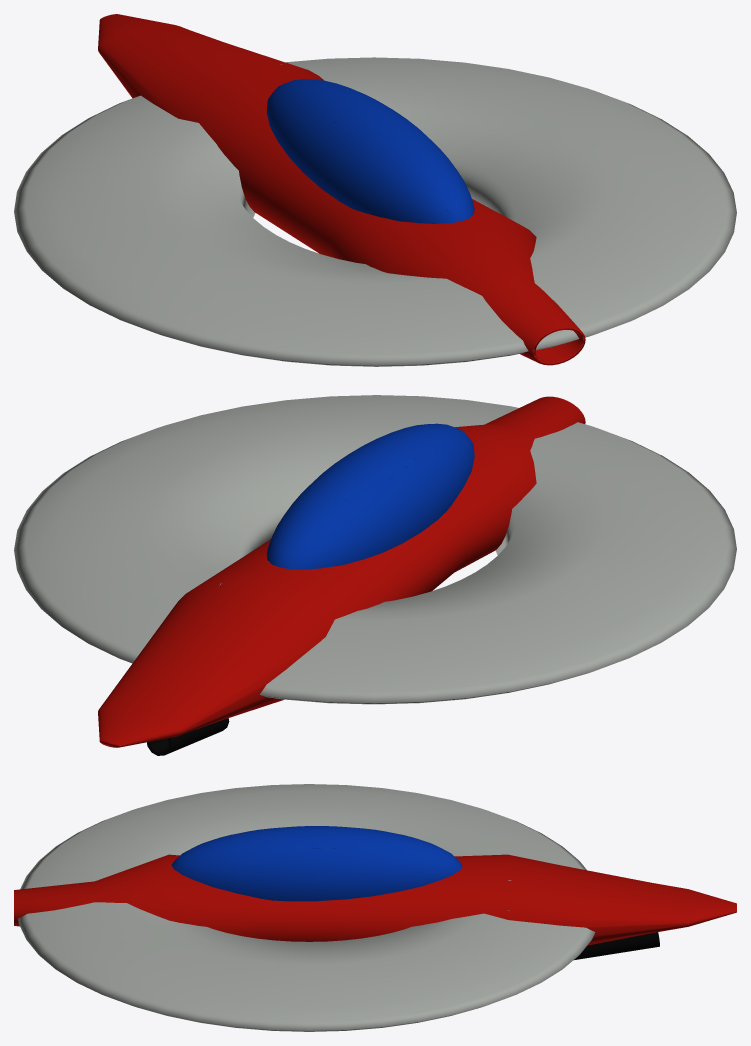
The model's file is rocketer.obj.
3 views of the same model, one above another, from view 1: azimuth 30°, elevation 25°; view 2: azimuth 150°, elevation 25°; view 3: azimuth 270°, elevation 25° (orthographic). The views are drawn at different scales.
Parts seen in each view (by area): view 1: Cylinder; view 2: Cylinder; view 3: Cylinder.
Boxes of the visible parts, <box> form: Cylinder: <box>14,14,736,366</box>; Cylinder: <box>14,395,736,755</box>; Cylinder: <box>14,784,736,1031</box>.
Bounding box in the file's own units: 12.22 × 3.03 × 15.2.
